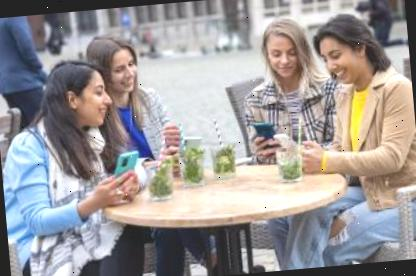person: (0, 51, 129, 276), (308, 4, 416, 265), (230, 9, 326, 166), (80, 21, 182, 157)
